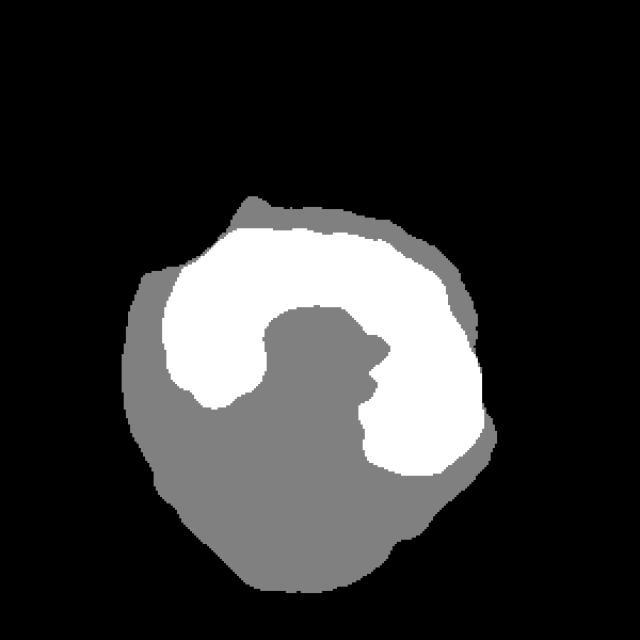WBC: (118, 186, 532, 612)
